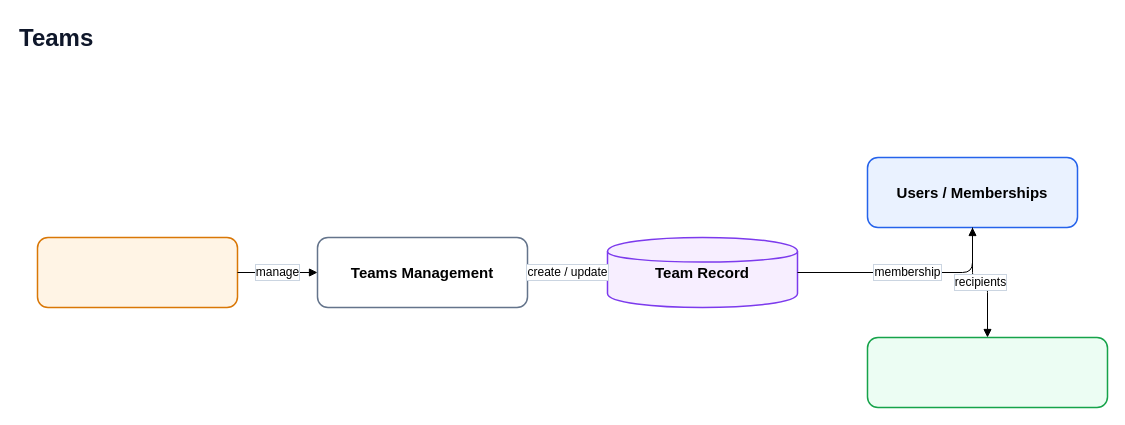
This 1125x425 diagram has some shape labels left out. Here are the shapes that lost their labels. From the top down, the centre of each, then its label:
pixel 137 272: Team Administrator
pixel 987 372: Notification Recipient Resolution
